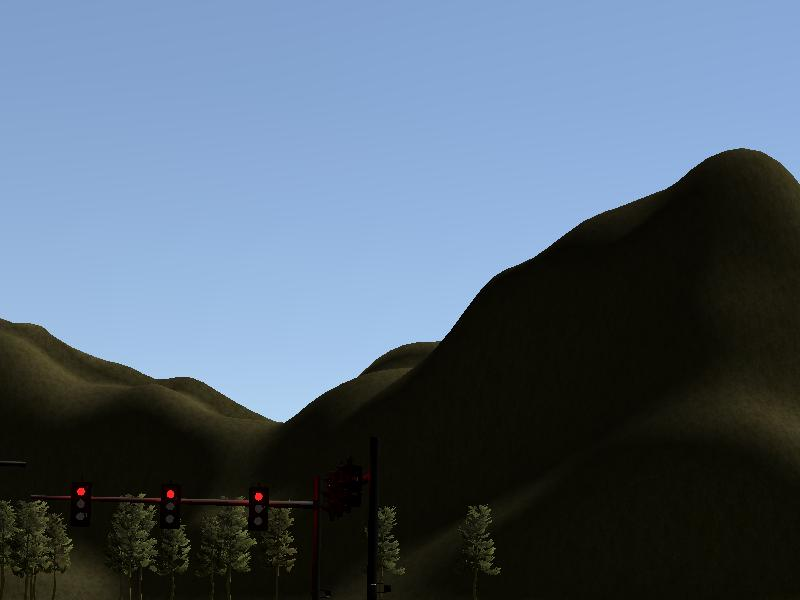Red: (247, 485, 268, 530), (160, 484, 180, 529), (69, 483, 89, 523)
